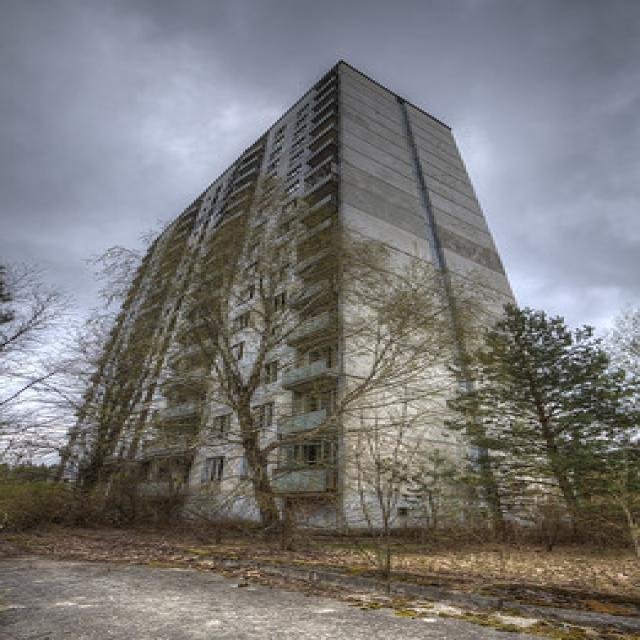Normal_building: (53, 58, 587, 546)
